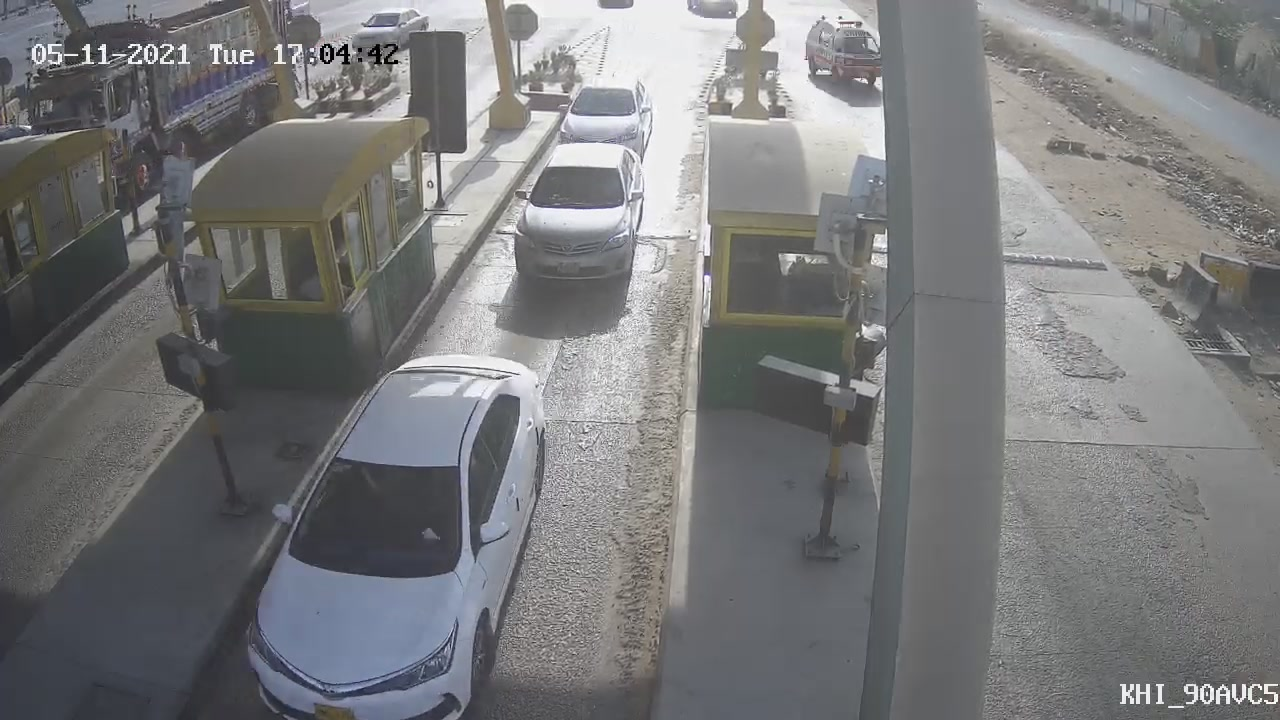F1: (497, 126, 661, 300)
